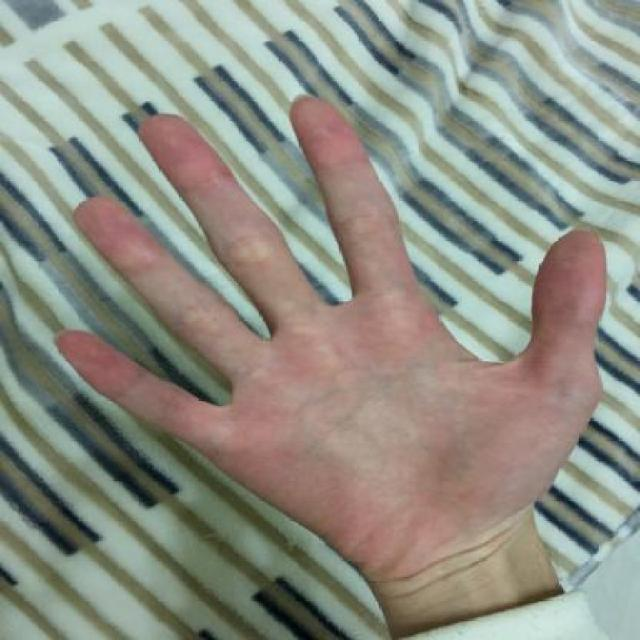no_glove: (36, 80, 621, 588)
